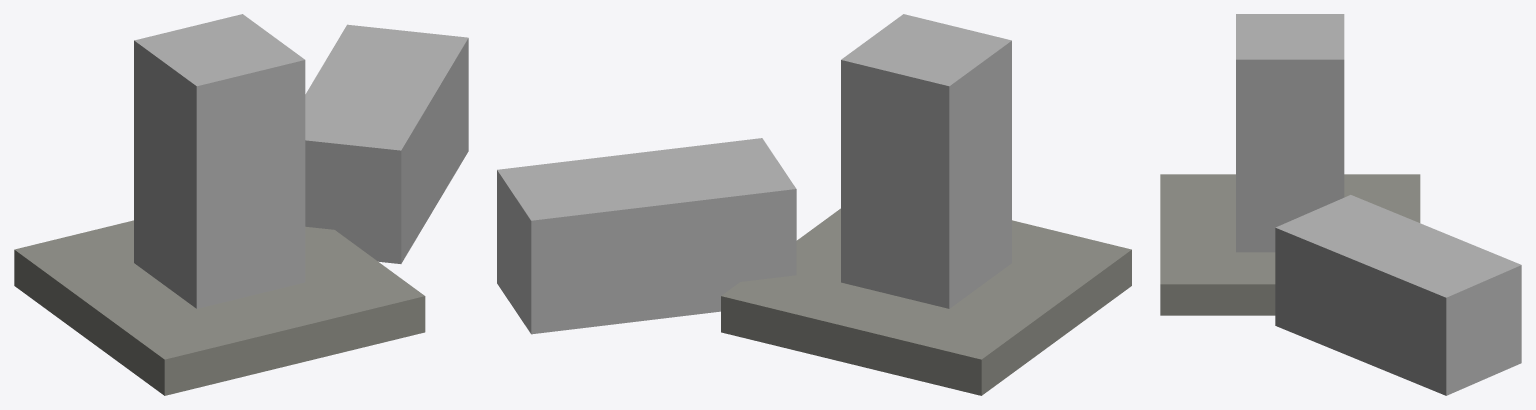
File: SM_poste_km_v2_LOD0.fbx
3 views of the same model, side by side, from view 1: azimuth 30°, elevation 25°; view 2: azimuth 150°, elevation 25°; view 3: azimuth 270°, elevation 25° (orthographic). The views are drawn at different scales.
Visible parts, largest first — view 1: SM_bloques.poste_km_v2_LOD0; view 2: SM_bloques.poste_km_v2_LOD0; view 3: SM_bloques.poste_km_v2_LOD0.
Boxes of the visible parts, x1,y1,x2,y2 form: SM_bloques.poste_km_v2_LOD0: [14, 14, 468, 395]; SM_bloques.poste_km_v2_LOD0: [497, 14, 1131, 395]; SM_bloques.poste_km_v2_LOD0: [1160, 14, 1521, 395].
Size of the model in its own units: 1.08 by 0.57 by 0.8344.
